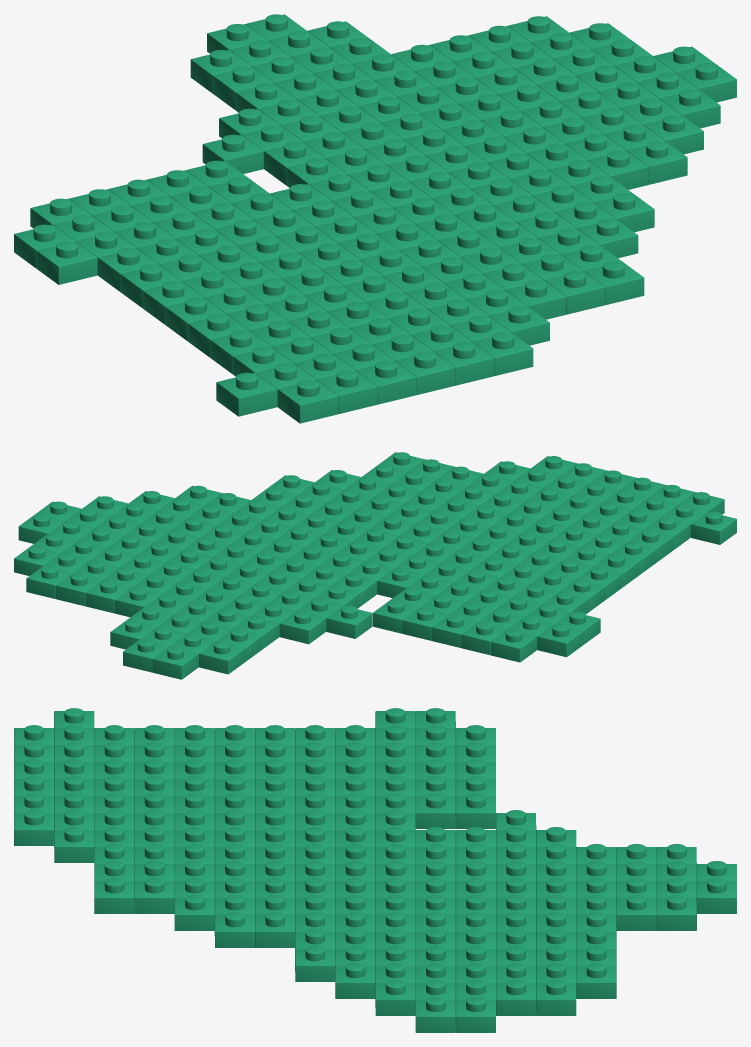
The model's file is Scandinavia.fbx.
The picture shows the model from 3 angles, top to bottom: view 1: azimuth 30°, elevation 25°; view 2: azimuth 150°, elevation 25°; view 3: azimuth 270°, elevation 25°; orthographic projection. The views are drawn at different scales.
Visible parts, largest first — view 1: Cylinder_64; view 2: Cylinder_64; view 3: Cylinder_64.
Part boxes in pixels (left/top/right/bottom): Cylinder_64: left=14, top=14, right=736, bottom=423; Cylinder_64: left=14, top=452, right=736, bottom=679; Cylinder_64: left=14, top=708, right=736, bottom=1032.
Bounding box in the file's own units: 1800 × 65.03 × 1800.
